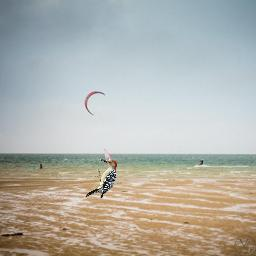Woodpecker: (84, 157, 121, 198)
